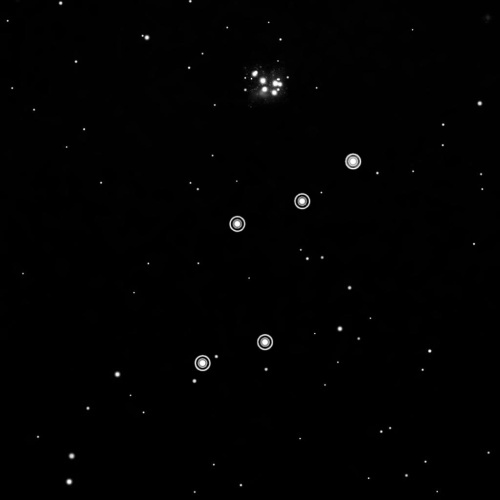lyra: (192, 147, 365, 376)
